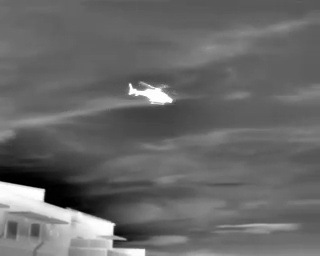HELICOPTER: (126, 73, 186, 114)
